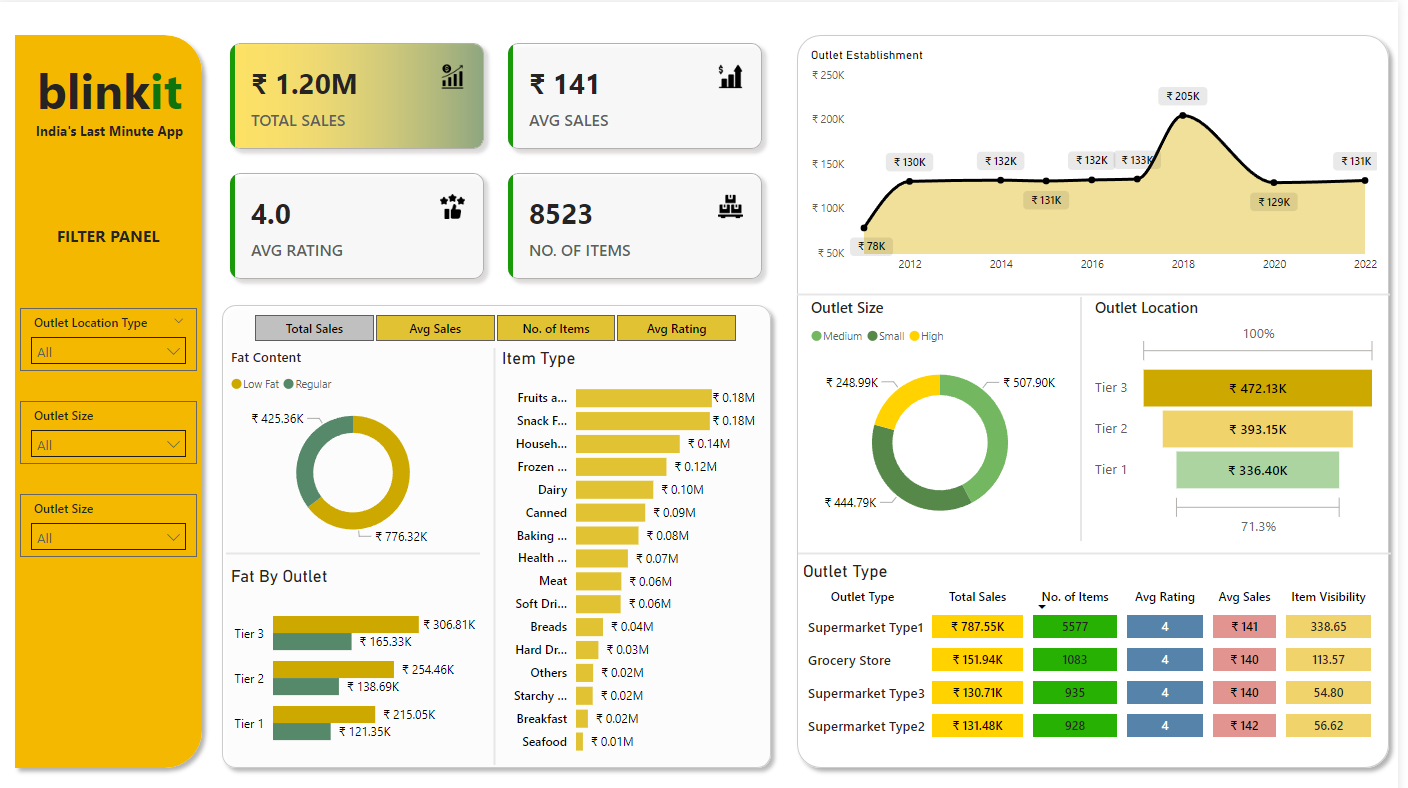

This screenshot's page, from the dashboard's own definition file:
{"tool":"powerbi","page":{"name":"Page 1","canvas":[1400,800],"ordinal":0},"visuals":[{"type":"shape","box":[7.8,24.4,204.9,750.2],"z":0},{"type":"textbox","box":[29.3,49.8,164.9,81],"z":1000},{"type":"textbox","box":[22.4,115.1,178.5,30.2],"z":2000},{"type":"cardVisual","fields":{"Data":["public blinkit.Total Sales","public blinkit.Avg Sales","public blinkit.Avg Rating","public blinkit.No. of Items"]},"box":[214.6,24.4,567.8,270.2],"z":3000},{"type":"shape","box":[214.6,293.7,567.8,481],"z":4000},{"type":"donutChart","title":"Fat Content","fields":{"Y":["public blinkit.Total Sales"],"Series":["public blinkit.Item Fat Content"]},"box":[228.3,346.3,253.7,204.9],"z":5000},{"type":"slicer","fields":{"Values":["matrix.matrix"]},"box":[231.2,306.3,530.7,40],"z":6000},{"type":"clusteredBarChart","title":"Fat By Outlet","fields":{"Y":["public blinkit.Total Sales"],"Category":["public blinkit.Outlet Location Type"],"Series":["public blinkit.Item Fat Content"]},"box":[228.3,563.9,253.7,199],"z":7000},{"type":"shape","box":[228.3,538.5,253.7,25.4],"z":8000},{"type":"shape","box":[482,346.3,29.3,416.6],"z":9000},{"type":"barChart","title":"Item Type","fields":{"Y":["public blinkit.Total Sales"],"Category":["public blinkit.Item Type"]},"box":[498.5,346.3,263.4,416.6],"z":10000},{"type":"shape","box":[790.2,24.4,609.8,750.2],"z":11000},{"type":"lineChart","title":"Outlet Establishment","fields":{"Category":["public blinkit.Outlet Establishment Year"],"Y":["public blinkit.Total Sales"]},"box":[807.8,45.9,576.6,234.1],"z":12000},{"type":"shape","box":[799,280,593.2,25.4],"z":13000},{"type":"donutChart","title":"Outlet Size","fields":{"Y":["public blinkit.Total Sales","public blinkit.Total Sales"],"Category":["public blinkit.Outlet Size"]},"box":[807.8,294.6,268.3,243.9],"z":14000},{"type":"shape","box":[1066.3,294.6,33.2,243.9],"z":15000},{"type":"funnel","title":"Outlet Location","fields":{"Category":["public blinkit.Outlet Location Type"],"Y":["public blinkit.Total Sales"]},"box":[1091.7,294.6,292.7,243.9],"z":16000},{"type":"shape","box":[800,538.5,593.2,25.4],"z":17000},{"type":"pivotTable","title":"Outlet Type","fields":{"Rows":["public blinkit.Outlet Type"],"Values":["public blinkit.Total Sales","public blinkit.No. of Items","public blinkit.Avg Rating","public blinkit.Avg Sales","Sum(public blinkit.Item Visibility)"]},"box":[800,559,592.2,207.8],"z":18000},{"type":"slicer","fields":{"Values":["public blinkit.Outlet Location Type"]},"box":[21.7,305.7,177.4,63.2],"z":18001},{"type":"slicer","fields":{"Values":["public blinkit.Outlet Size"]},"box":[21.7,399.1,177.4,63.2],"z":18002},{"type":"slicer","fields":{"Values":["public blinkit.Outlet Size"]},"box":[21.7,491.5,177.4,63.2],"z":18003},{"type":"textbox","box":[33,217.9,153.8,41.5],"z":18004}]}

Visuals, with their boxes in screenshot pixels (x1, y1, x2, y2), scaled from the page's 1400x800 canvas onto the 1408x788 screenshot:
shape: bbox(8, 24, 214, 763)
textbox: bbox(29, 49, 195, 129)
textbox: bbox(23, 113, 202, 143)
cardVisual - public blinkit.Total Sales x public blinkit.Avg Sales: bbox(216, 24, 787, 290)
shape: bbox(216, 289, 787, 763)
"Fat Content" donutChart: bbox(230, 341, 485, 543)
slicer - matrix.matrix: bbox(233, 302, 766, 341)
"Fat By Outlet" clusteredBarChart: bbox(230, 555, 485, 751)
shape: bbox(230, 530, 485, 555)
shape: bbox(485, 341, 514, 751)
"Item Type" barChart: bbox(501, 341, 766, 751)
shape: bbox(795, 24, 1407, 763)
"Outlet Establishment" lineChart: bbox(812, 45, 1392, 276)
shape: bbox(804, 276, 1400, 301)
"Outlet Size" donutChart: bbox(812, 290, 1082, 530)
shape: bbox(1072, 290, 1106, 530)
"Outlet Location" funnel: bbox(1098, 290, 1392, 530)
shape: bbox(805, 530, 1401, 555)
"Outlet Type" pivotTable: bbox(805, 551, 1400, 755)
slicer - public blinkit.Outlet Location Type: bbox(22, 301, 200, 363)
slicer - public blinkit.Outlet Size: bbox(22, 393, 200, 455)
slicer - public blinkit.Outlet Size: bbox(22, 484, 200, 546)
textbox: bbox(33, 215, 188, 256)
